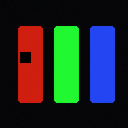1 square: (20, 52, 30, 62)
